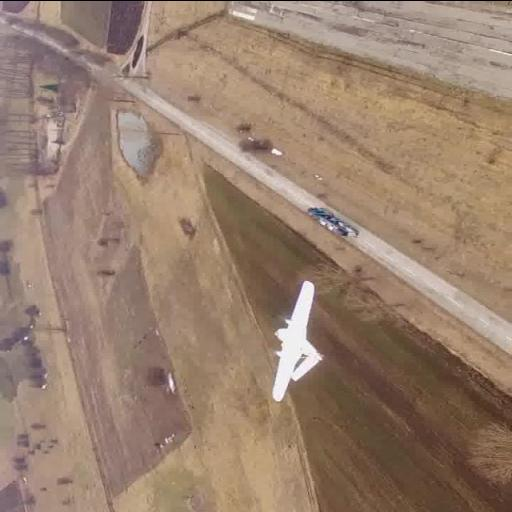uav: (259, 274, 347, 406)
